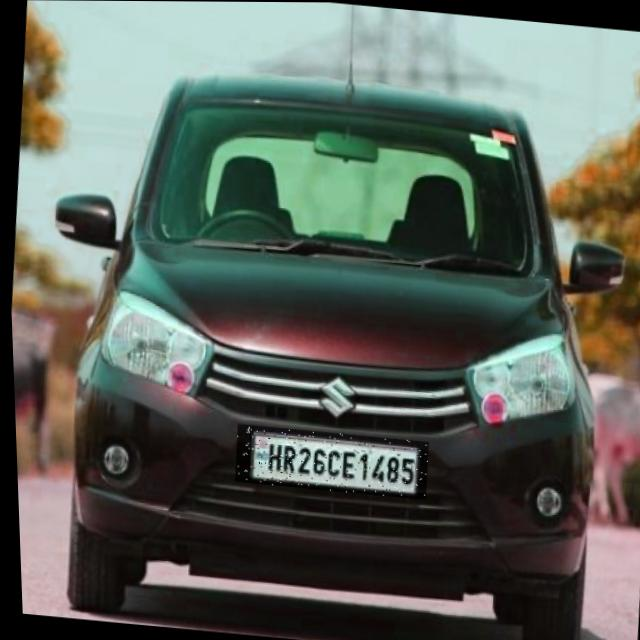license_plate: (229, 423, 426, 498)
